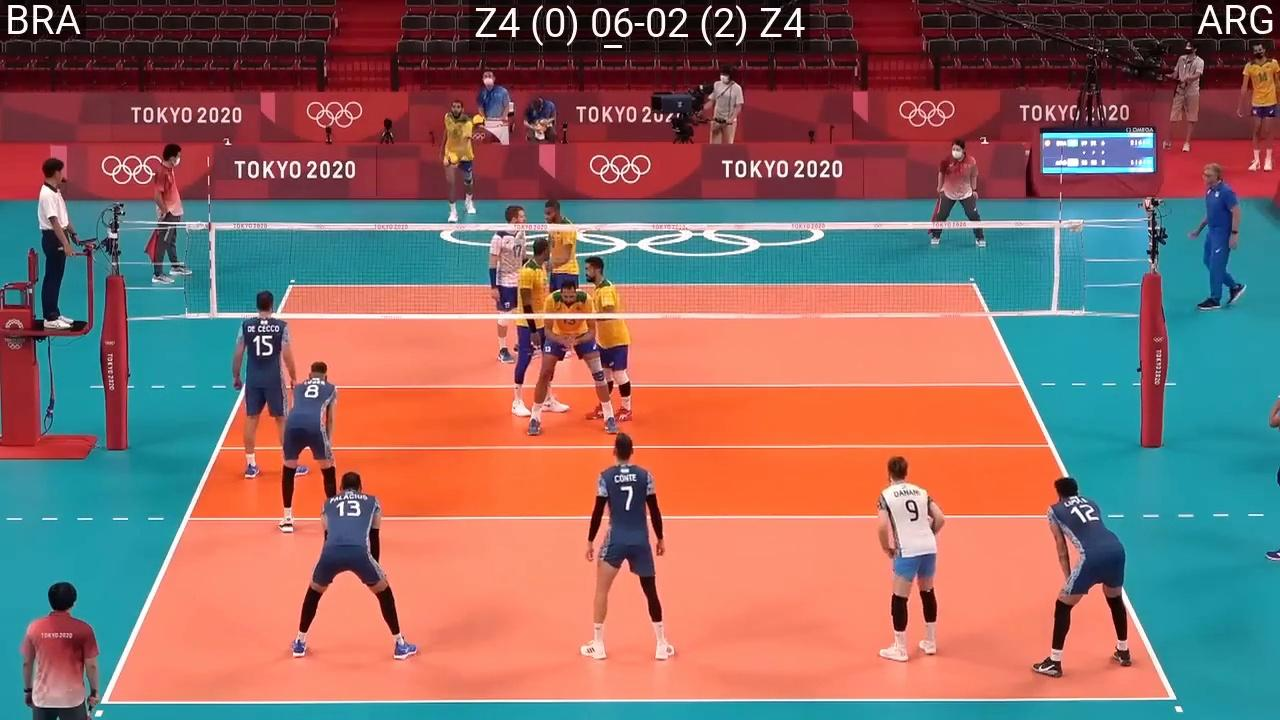ball: (473, 114, 485, 129)
